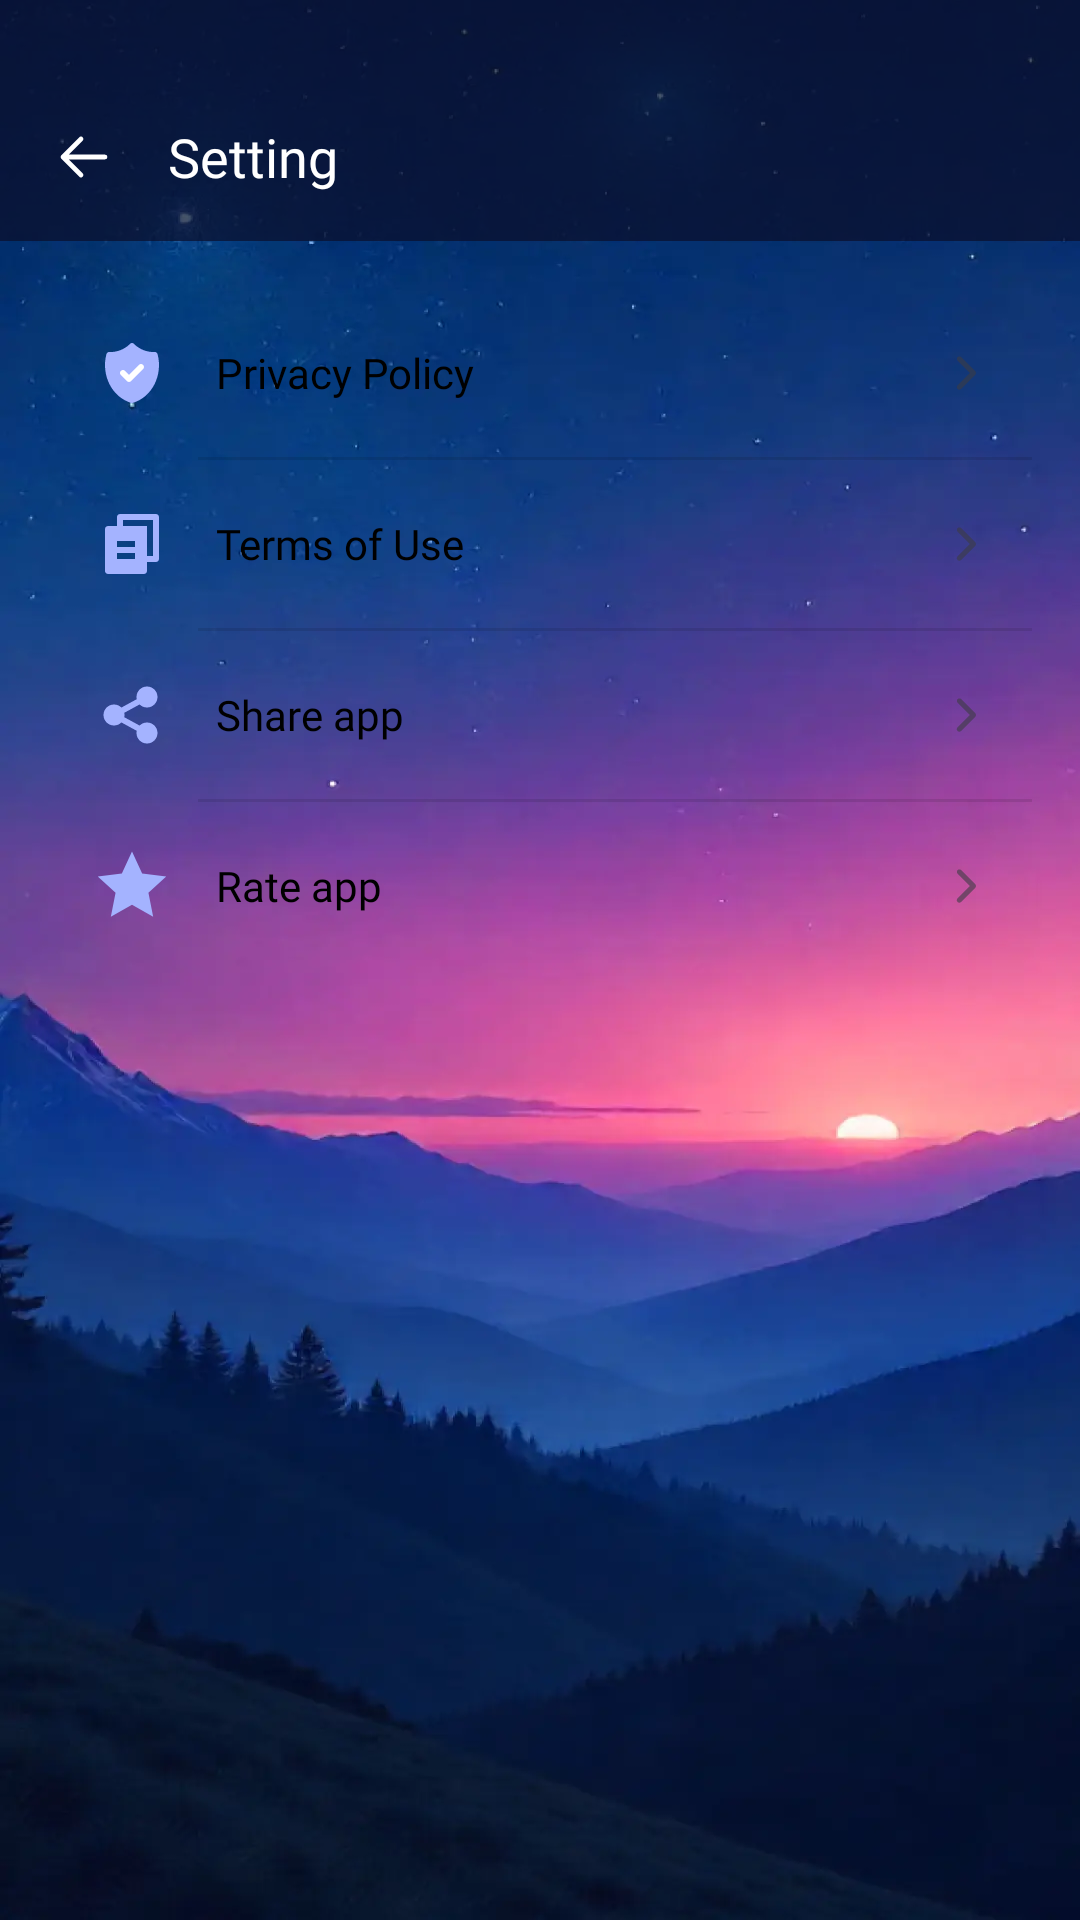

Named icons in this screenshot (1080x1920) and their bounding boxes, box(x1, y1, x2, y2):
back: box(60, 136, 108, 178)
setting rate: box(98, 852, 166, 917)
setting share: box(96, 679, 168, 744)
setting term: box(105, 514, 159, 574)
